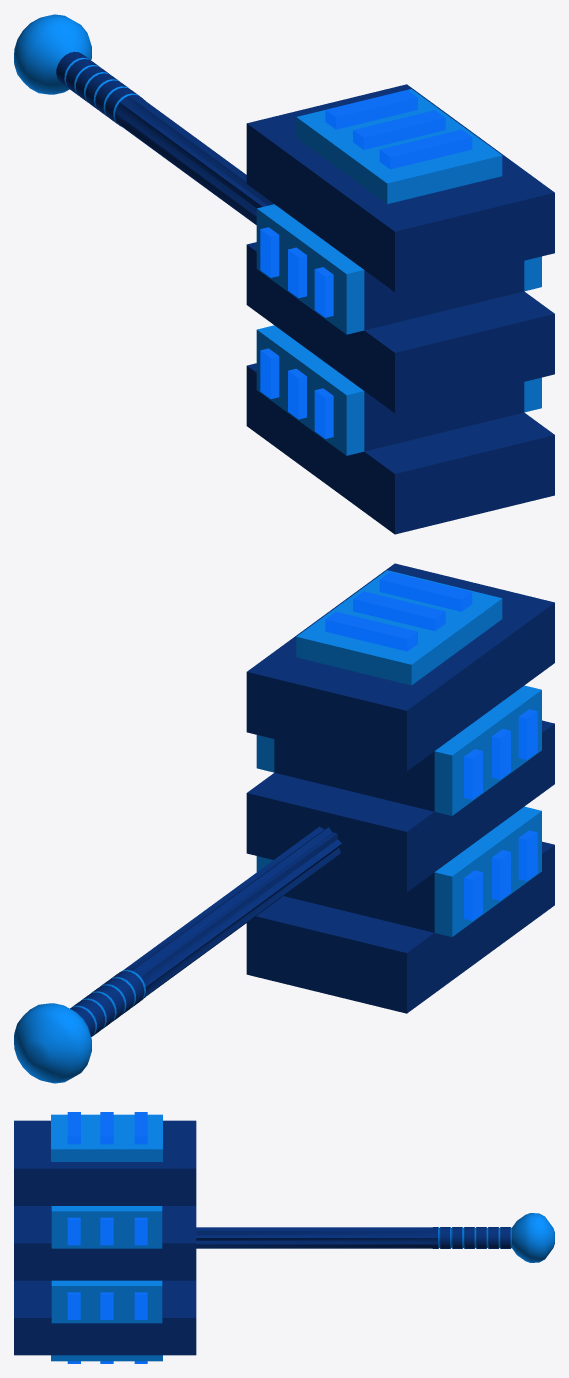
The model's file is hammer.glb.
3 views of the same model, one above another, from view 1: azimuth 30°, elevation 25°; view 2: azimuth 150°, elevation 25°; view 3: azimuth 270°, elevation 25° (orthographic). The views are drawn at different scales.
Parts seen in each view (by area): view 1: Hammer; view 2: Hammer; view 3: Hammer.
Boxes of the visible parts, left/top/right/bottom form: Hammer: left=14, top=14, right=554, bottom=534; Hammer: left=14, top=563, right=554, bottom=1083; Hammer: left=14, top=1112, right=554, bottom=1363.
Bounding box in the file's own units: 0.5063 × 0.8403 × 1.81.
